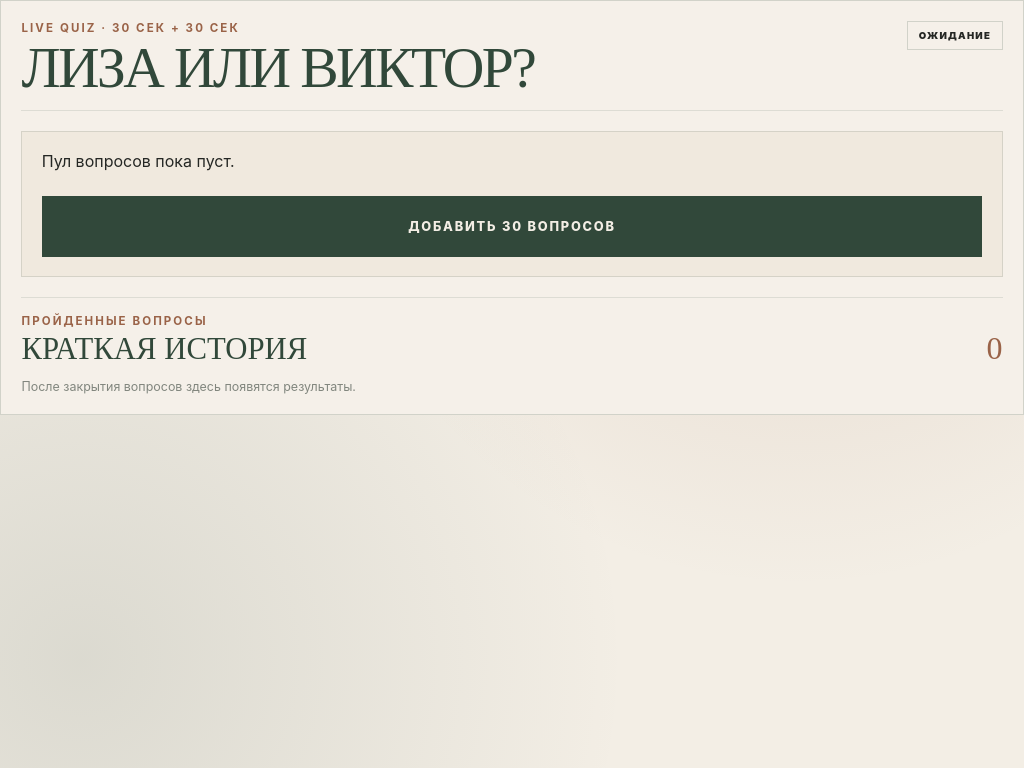
AdminQuizPanel › seeds the default pool when no questions exist
Step 1. Click the button "ДОБАВИТЬ 30 ВОПРОСОВ" → {"x": 512, "y": 226}, box left=42, top=196, right=982, bottom=257
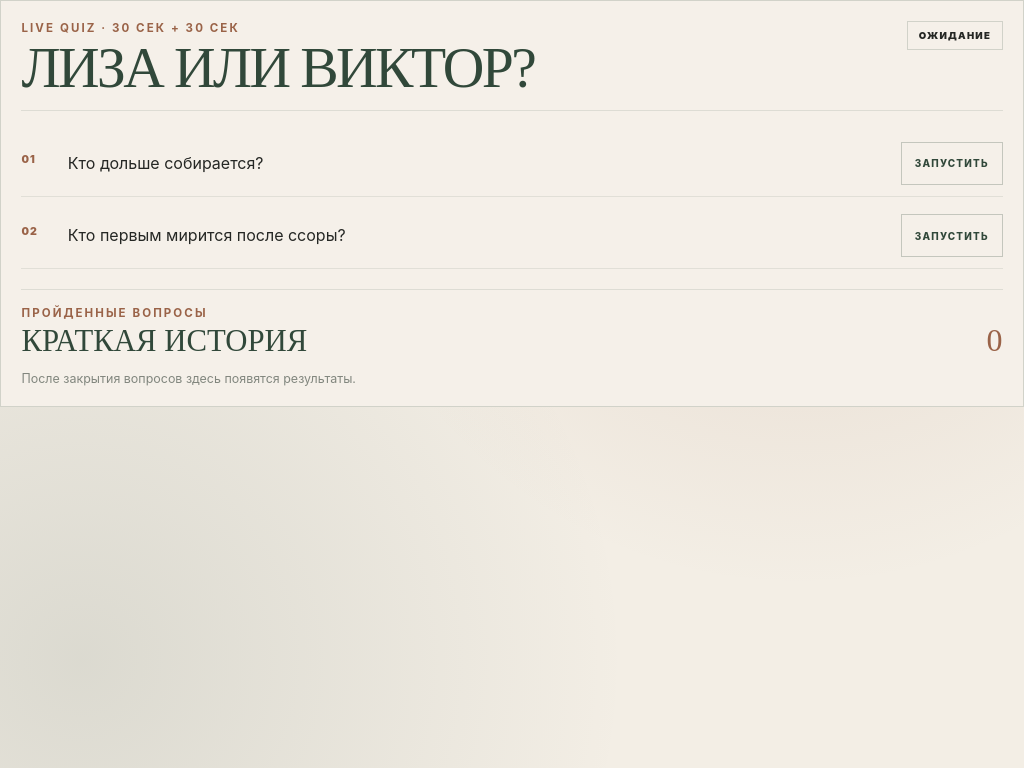
Expected: the text "Кто дольше собирается?" is shown, left=68, top=153, right=264, bottom=173
